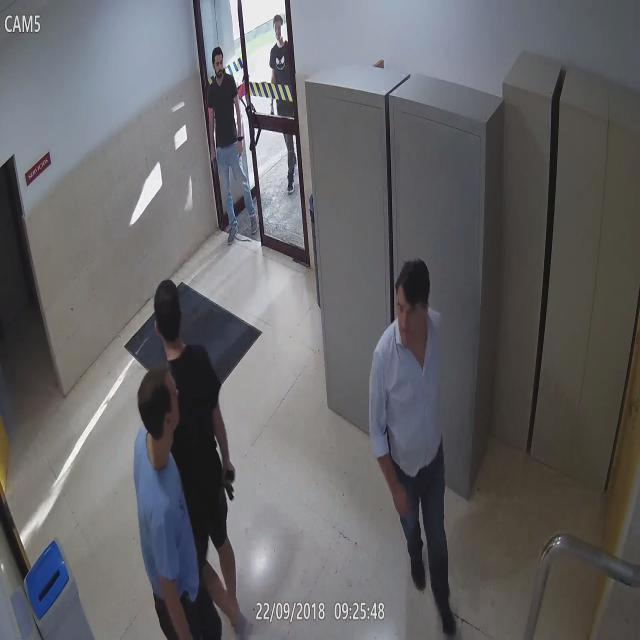weapon: (210, 157, 227, 190), (222, 472, 238, 501)
